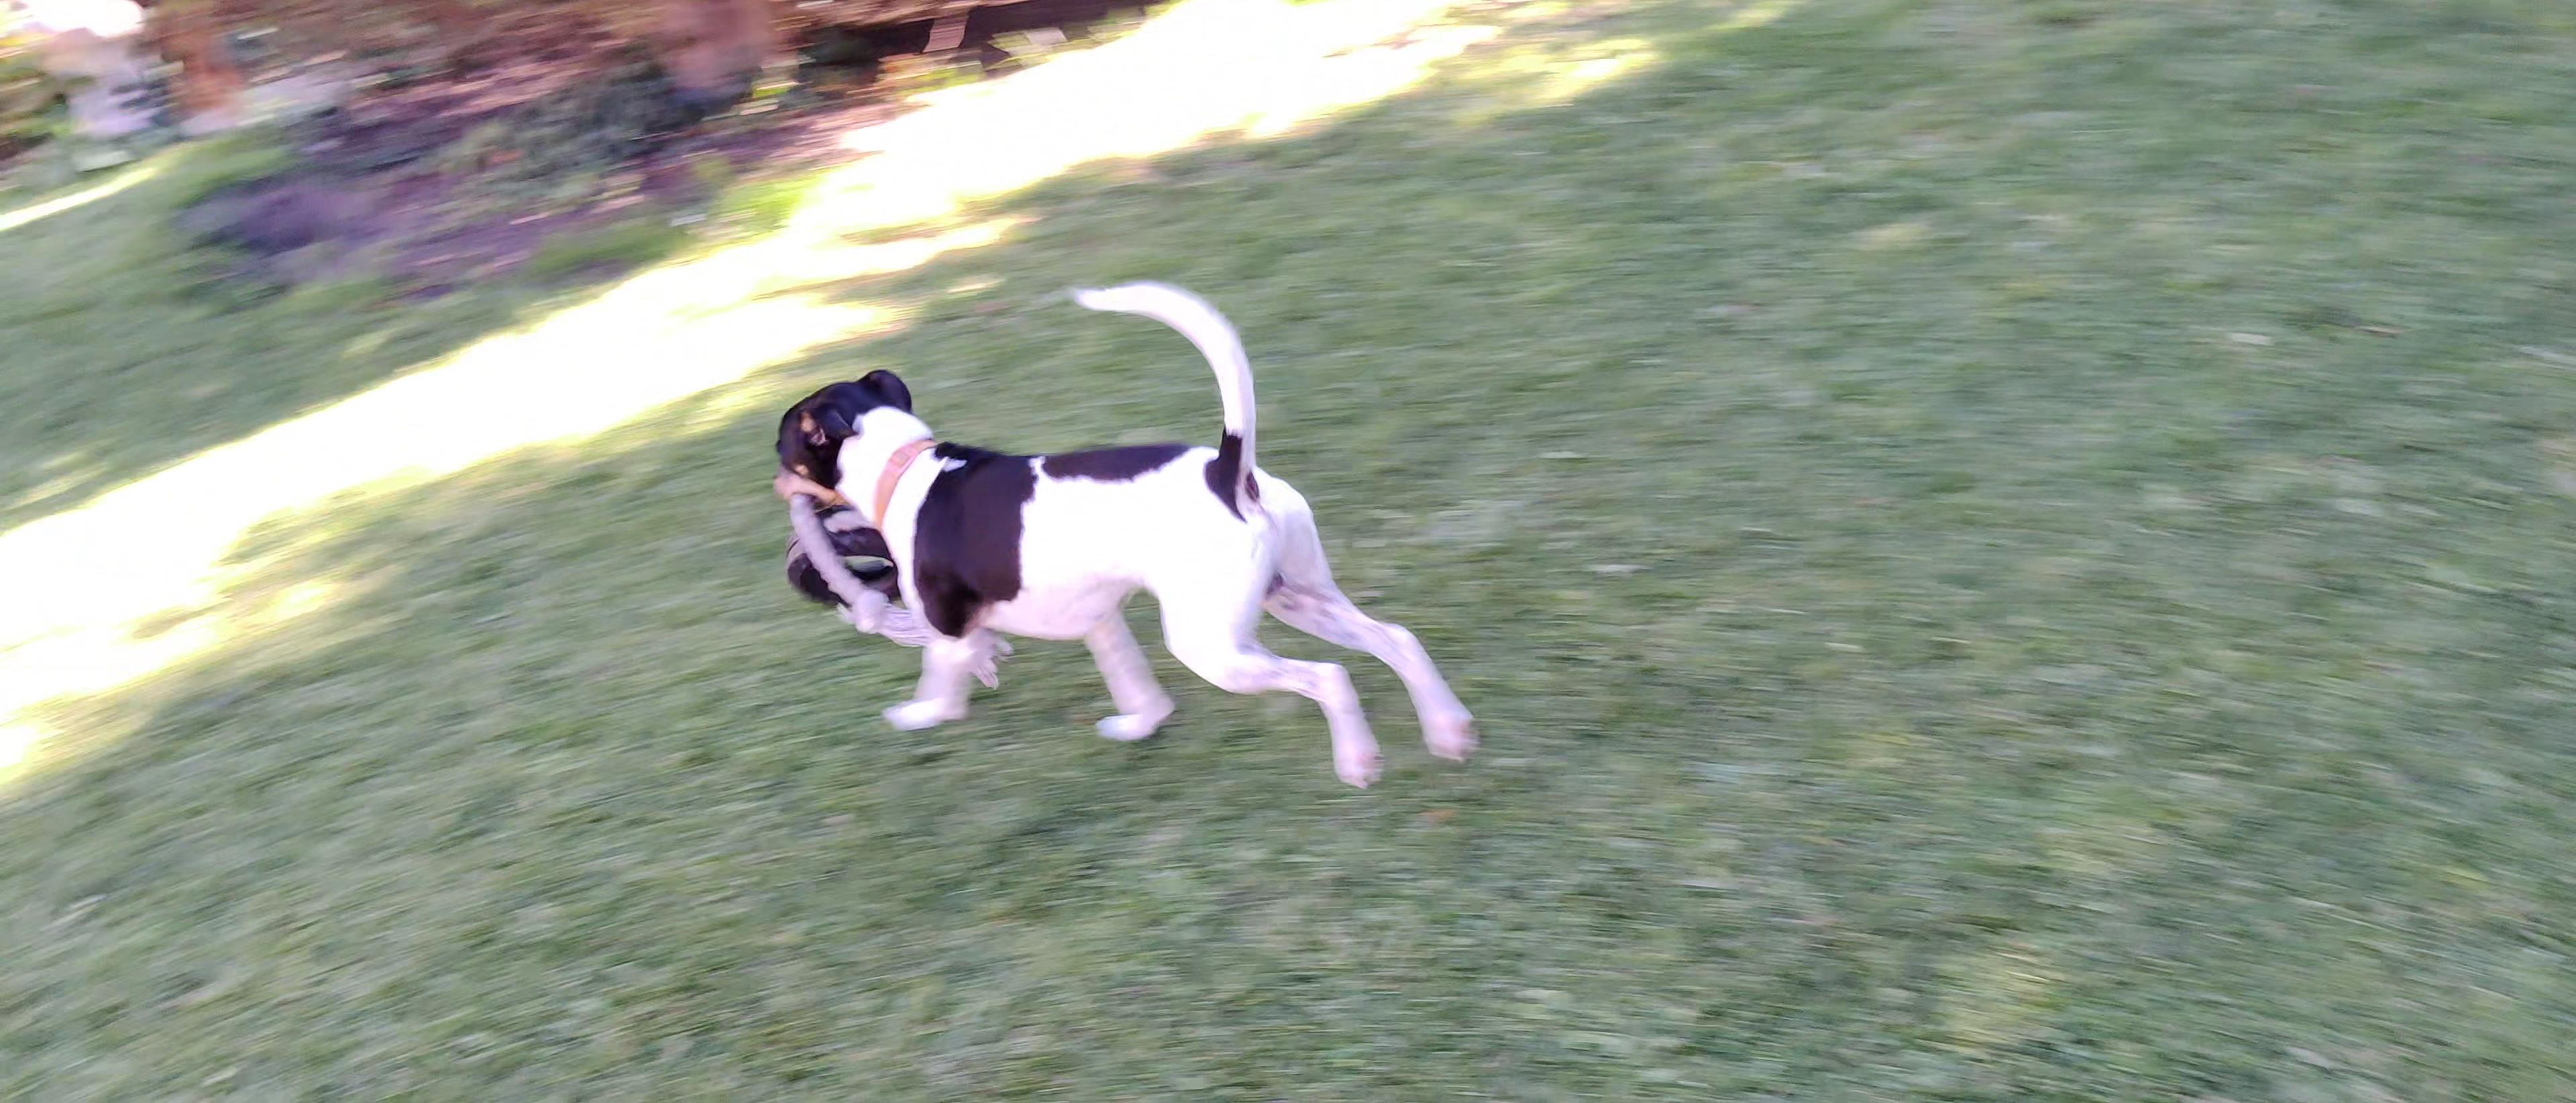Dog: (770, 278, 1493, 791)
